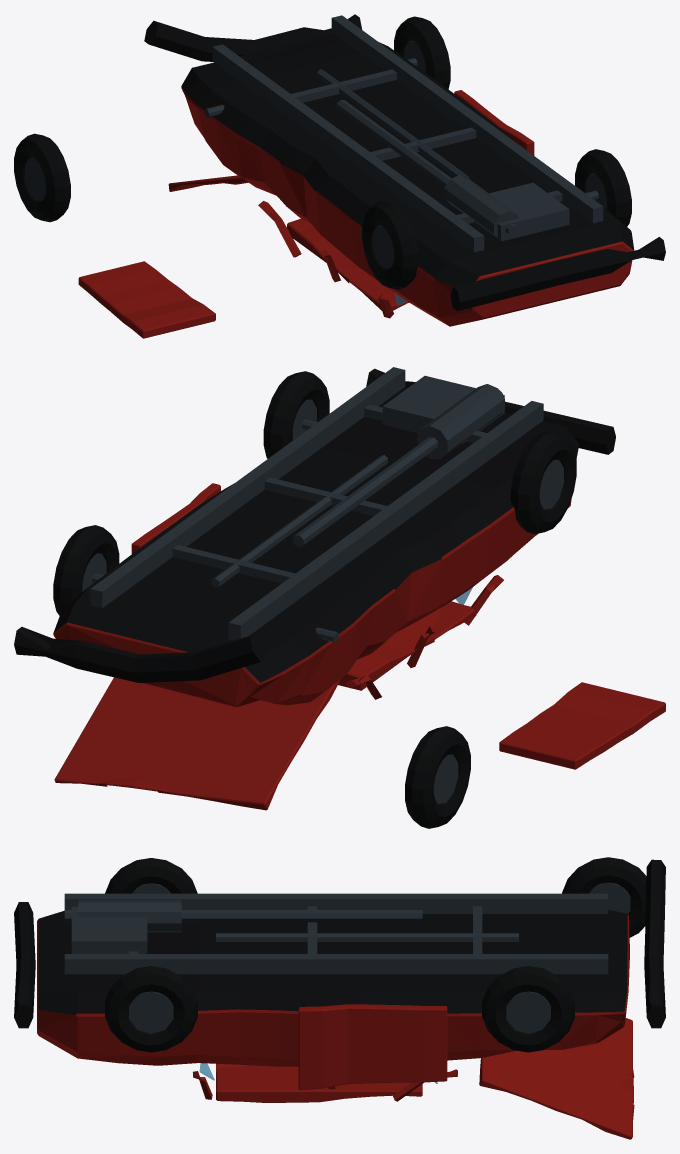
Rendered from DISASTER_11_OverturnedVehicleShell.obj.
3 renders of one model, top to bottom at view 1: azimuth 30°, elevation 25°; view 2: azimuth 150°, elevation 25°; view 3: azimuth 270°, elevation 25°, orthographic. The views are drawn at different scales.
Parts seen in each view (by area): view 1: DISASTER_11_OverturnedVehicleShell_Body_Shell, DISASTER_11_OverturnedVehicleShell_Underbody, DISASTER_11_OverturnedVehicleShell_Door_FR_Detached, DISASTER_11_OverturnedVehicleShell_Bumper_Rear, DISASTER_11_OverturnedVehicleShell_Wheel_FR_Detached, DISASTER_11_OverturnedVehicleShell_Wheel_RR, DISASTER_11_OverturnedVehicleShell_Bumper_Front, DISASTER_11_OverturnedVehicleShell_Wheel_RL, DISASTER_11_OverturnedVehicleShell_Wheel_FL, DISASTER_11_OverturnedVehicleShell_Cabin_Roof, DISASTER_11_OverturnedVehicleShell_Pillars, DISASTER_11_OverturnedVehicleShell_Door_FL (+1 smaller); view 2: DISASTER_11_OverturnedVehicleShell_Body_Shell, DISASTER_11_OverturnedVehicleShell_Underbody, DISASTER_11_OverturnedVehicleShell_Hood, DISASTER_11_OverturnedVehicleShell_Door_FR_Detached, DISASTER_11_OverturnedVehicleShell_Bumper_Front, DISASTER_11_OverturnedVehicleShell_Wheel_FR_Detached, DISASTER_11_OverturnedVehicleShell_Wheel_RR, DISASTER_11_OverturnedVehicleShell_Wheel_RL, DISASTER_11_OverturnedVehicleShell_Wheel_FL, DISASTER_11_OverturnedVehicleShell_Cabin_Roof, DISASTER_11_OverturnedVehicleShell_Bumper_Rear, DISASTER_11_OverturnedVehicleShell_Pillars (+1 smaller); view 3: DISASTER_11_OverturnedVehicleShell_Body_Shell, DISASTER_11_OverturnedVehicleShell_Underbody, DISASTER_11_OverturnedVehicleShell_Door_FL, DISASTER_11_OverturnedVehicleShell_Hood, DISASTER_11_OverturnedVehicleShell_Wheel_FL, DISASTER_11_OverturnedVehicleShell_Wheel_RL, DISASTER_11_OverturnedVehicleShell_Cabin_Roof, DISASTER_11_OverturnedVehicleShell_Wheel_FR_Detached, DISASTER_11_OverturnedVehicleShell_Bumper_Front, DISASTER_11_OverturnedVehicleShell_Wheel_RR, DISASTER_11_OverturnedVehicleShell_Bumper_Rear, DISASTER_11_OverturnedVehicleShell_Pillars.
Boxes of the visible parts, x1,y1,x2,y2 form: DISASTER_11_OverturnedVehicleShell_Body_Shell: [181, 33, 634, 326]; DISASTER_11_OverturnedVehicleShell_Underbody: [204, 15, 603, 252]; DISASTER_11_OverturnedVehicleShell_Door_FR_Detached: [78, 261, 215, 338]; DISASTER_11_OverturnedVehicleShell_Bumper_Rear: [450, 237, 665, 310]; DISASTER_11_OverturnedVehicleShell_Wheel_FR_Detached: [14, 133, 70, 222]; DISASTER_11_OverturnedVehicleShell_Wheel_RR: [362, 201, 418, 289]; DISASTER_11_OverturnedVehicleShell_Bumper_Front: [144, 14, 362, 61]; DISASTER_11_OverturnedVehicleShell_Wheel_RL: [575, 149, 631, 226]; DISASTER_11_OverturnedVehicleShell_Wheel_FL: [394, 16, 450, 89]; DISASTER_11_OverturnedVehicleShell_Cabin_Roof: [287, 218, 409, 314]; DISASTER_11_OverturnedVehicleShell_Pillars: [258, 201, 393, 318]; DISASTER_11_OverturnedVehicleShell_Door_FL: [454, 90, 534, 155]; DISASTER_11_OverturnedVehicleShell_Body_Shell: [53, 387, 579, 707]; DISASTER_11_OverturnedVehicleShell_Underbody: [90, 367, 543, 642]; DISASTER_11_OverturnedVehicleShell_Hood: [54, 677, 340, 810]; DISASTER_11_OverturnedVehicleShell_Door_FR_Detached: [499, 682, 665, 769]; DISASTER_11_OverturnedVehicleShell_Bumper_Front: [14, 627, 266, 682]; DISASTER_11_OverturnedVehicleShell_Wheel_FR_Detached: [405, 726, 470, 828]; DISASTER_11_OverturnedVehicleShell_Wheel_RR: [510, 431, 576, 534]; DISASTER_11_OverturnedVehicleShell_Wheel_RL: [263, 371, 329, 458]; DISASTER_11_OverturnedVehicleShell_Wheel_FL: [53, 525, 119, 615]; DISASTER_11_OverturnedVehicleShell_Cabin_Roof: [338, 601, 476, 690]; DISASTER_11_OverturnedVehicleShell_Bumper_Rear: [366, 368, 615, 454]; DISASTER_11_OverturnedVehicleShell_Pillars: [345, 575, 503, 699]; DISASTER_11_OverturnedVehicleShell_Body_Shell: [37, 909, 629, 1066]; DISASTER_11_OverturnedVehicleShell_Underbody: [64, 893, 608, 974]; DISASTER_11_OverturnedVehicleShell_Door_FL: [298, 1004, 447, 1090]; DISASTER_11_OverturnedVehicleShell_Hood: [479, 1018, 634, 1139]; DISASTER_11_OverturnedVehicleShell_Wheel_FL: [482, 966, 574, 1052]; DISASTER_11_OverturnedVehicleShell_Wheel_RL: [105, 966, 197, 1052]; DISASTER_11_OverturnedVehicleShell_Cabin_Roof: [216, 1063, 422, 1102]; DISASTER_11_OverturnedVehicleShell_Wheel_FR_Detached: [562, 857, 646, 937]; DISASTER_11_OverturnedVehicleShell_Bumper_Front: [644, 859, 665, 1028]; DISASTER_11_OverturnedVehicleShell_Wheel_RR: [105, 858, 197, 893]; DISASTER_11_OverturnedVehicleShell_Bumper_Rear: [14, 902, 35, 1028]; DISASTER_11_OverturnedVehicleShell_Pillars: [193, 1069, 457, 1101].
Bounding box in the file's own units: 3.5 × 1.5 × 4.74.
